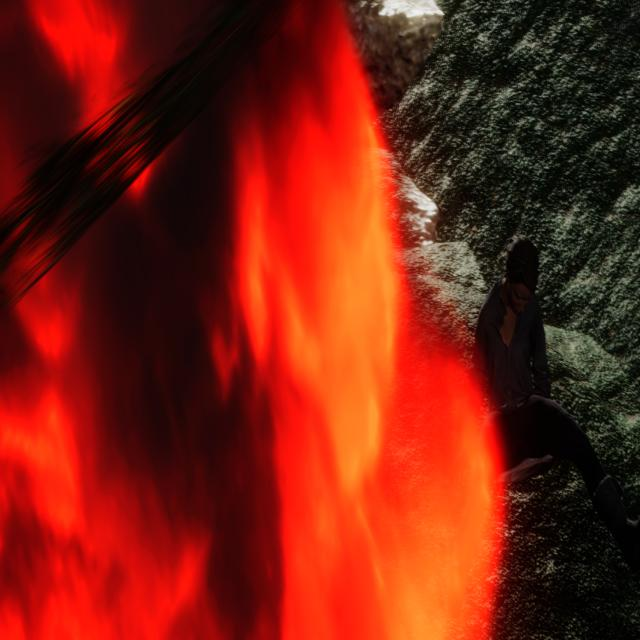Human: (454, 233, 640, 574)
